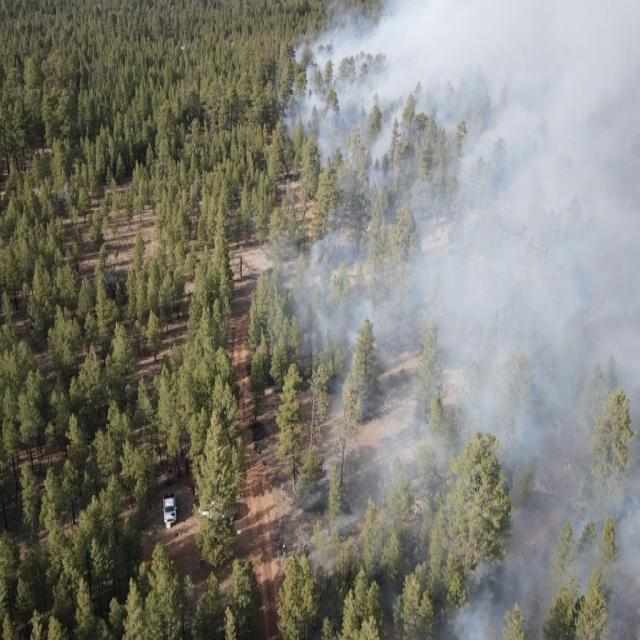smoke: (279, 1, 640, 322), (298, 321, 640, 640)
